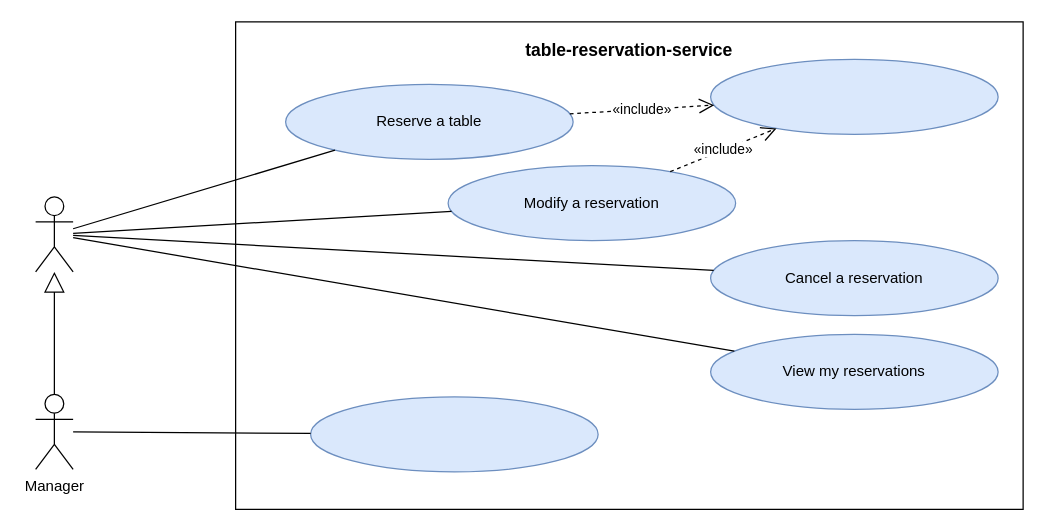
This 1045x531 diagram has some shape labels left out. Each missing label, with the centre of its shape:
"Customer" goes at pixel 53 234.
"Find a free table" goes at pixel 853 96.
"View the restaurant's reservations" goes at pixel 453 434.
